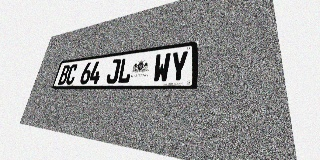4: (88, 61, 103, 84)
6: (79, 62, 93, 84)
B: (58, 65, 71, 85)
C: (65, 64, 78, 85)
J: (105, 59, 121, 84)
L: (117, 57, 134, 83)
W: (152, 52, 171, 83)
Y: (169, 50, 189, 82)
